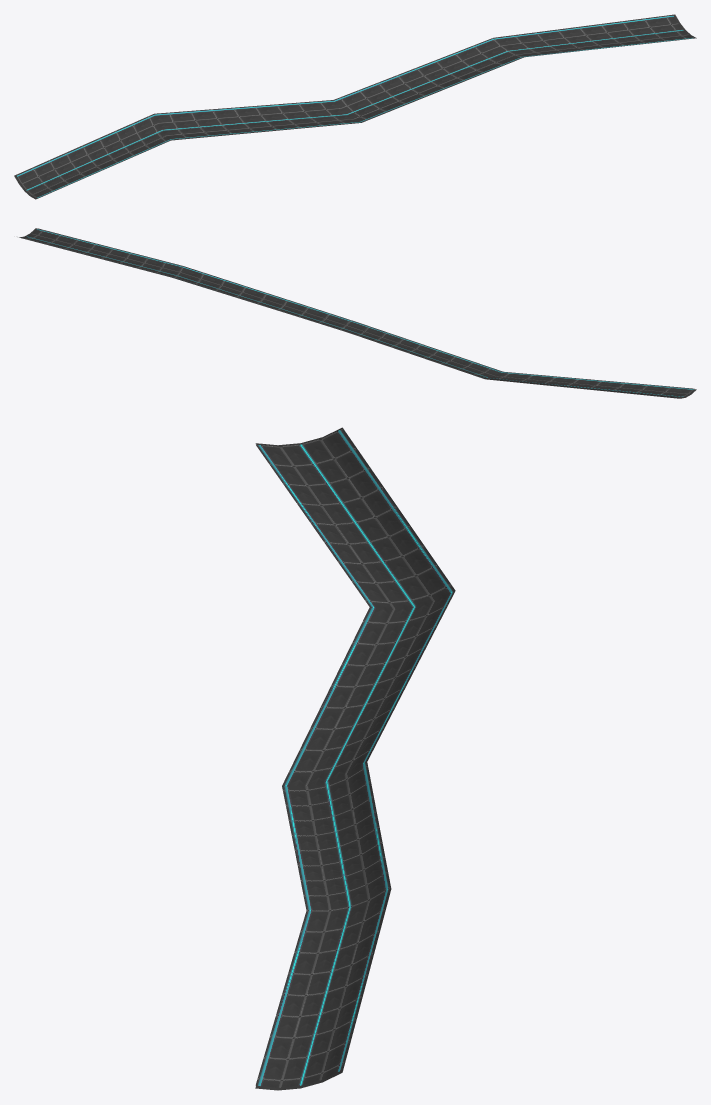
Rendered from movingPath.fbx.
3 renders of one model, top to bottom at view 1: azimuth 30°, elevation 25°; view 2: azimuth 150°, elevation 25°; view 3: azimuth 270°, elevation 25°, orthographic. The views are drawn at different scales.
Parts seen in each view (by area): view 1: tube; view 2: tube; view 3: tube.
Boxes of the visible parts, box(x1,y1,x2,y2) form: tube: box(14, 14, 696, 199); tube: box(19, 228, 696, 398); tube: box(255, 427, 455, 1090).
Size of the model in its own units: 3712 by 146 by 487.
